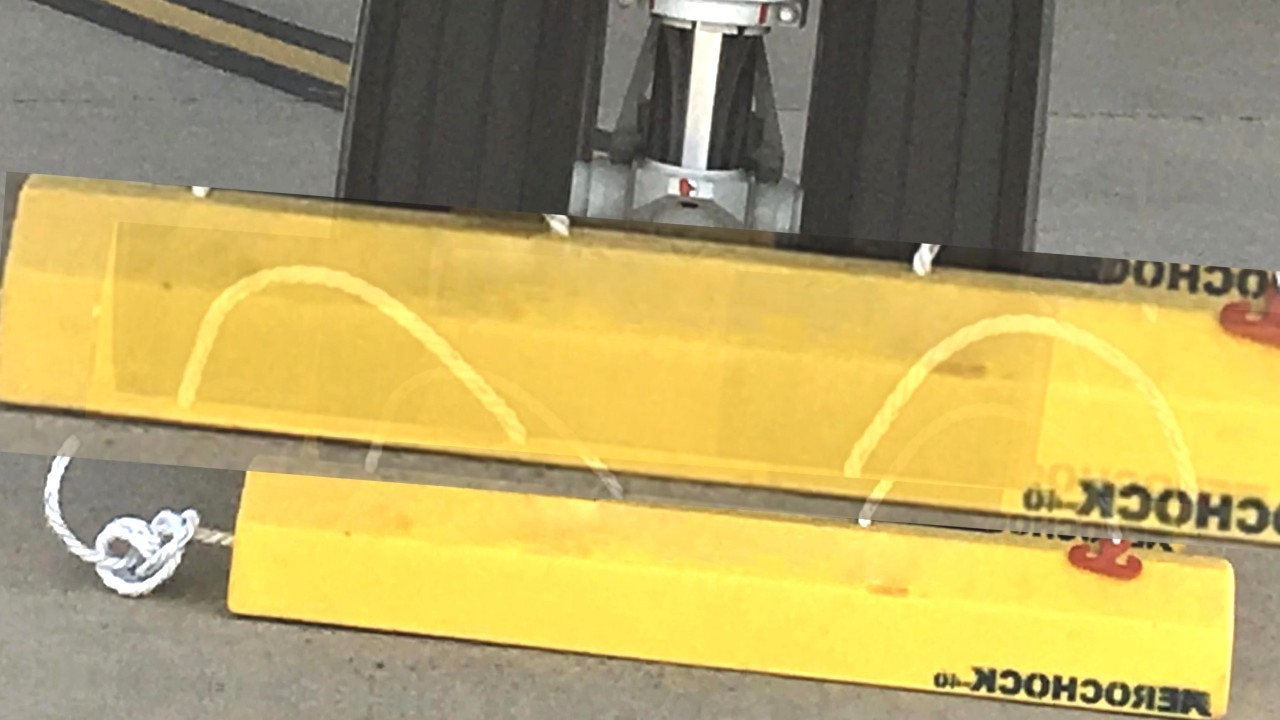chock: (0, 171, 1280, 565), (85, 220, 1280, 512), (224, 455, 1240, 720), (296, 333, 1201, 549)
wheel: (771, 0, 1064, 534), (315, 0, 624, 486)
